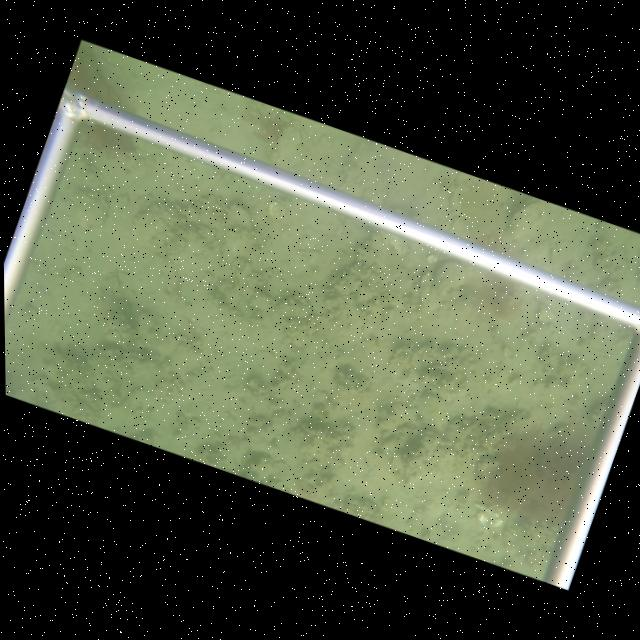Oyster-Closed: (433, 258, 470, 295), (417, 270, 442, 311)
Oyster-Indeterminate: (413, 391, 452, 425), (224, 201, 255, 228)
Oyster-Open: (508, 196, 552, 242)
